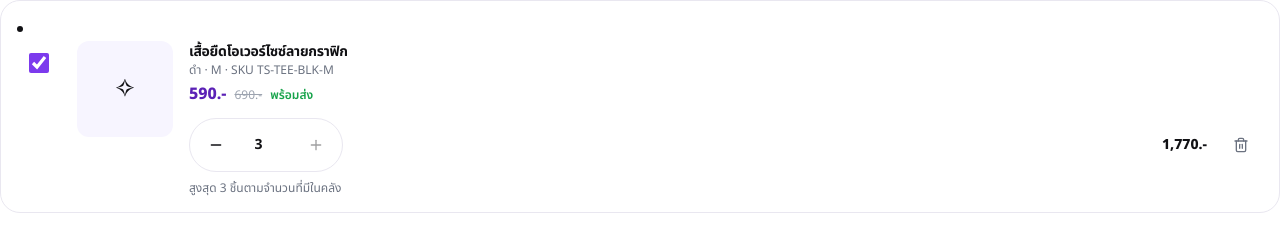
CartItemRow — จำนวนในตะกร้า (STEP 37) › พิมพ์จำนวนเกินที่มีในคลัง แล้วช่องต้องแสดงจำนวนที่ระบบใช้จริง ไม่ใช่เลขที่พิมพ์
The image size is (1280, 230).
Step 1. Replace the text in the number field named "จำนวนของ" with "9" → (266,145), box [242,135,290,155]
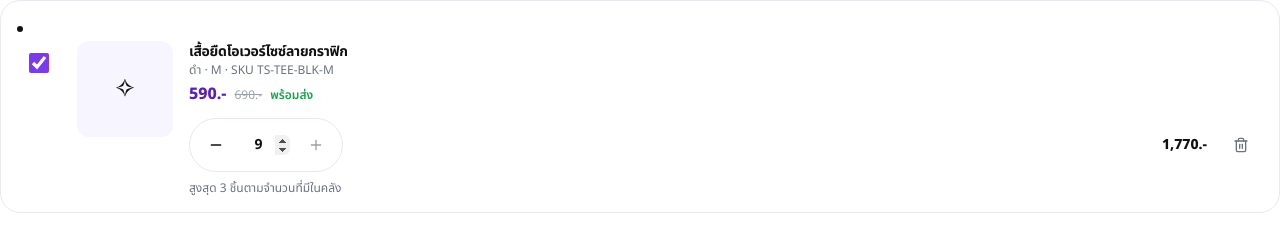
Step 2. Press Tab
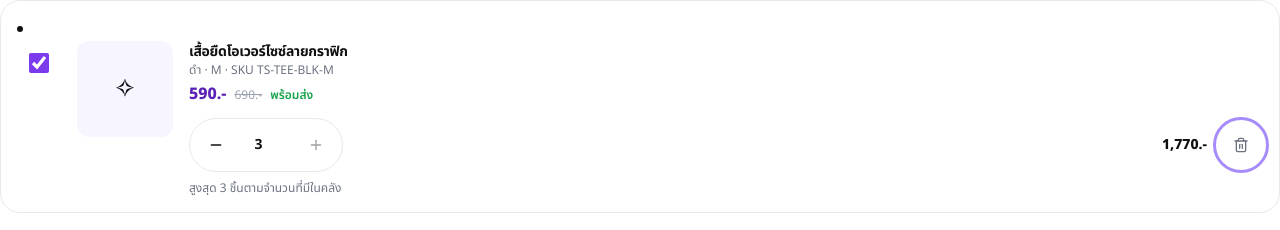
expect the number field named "จำนวนของ" holds "3": met, box [242,135,290,155]
